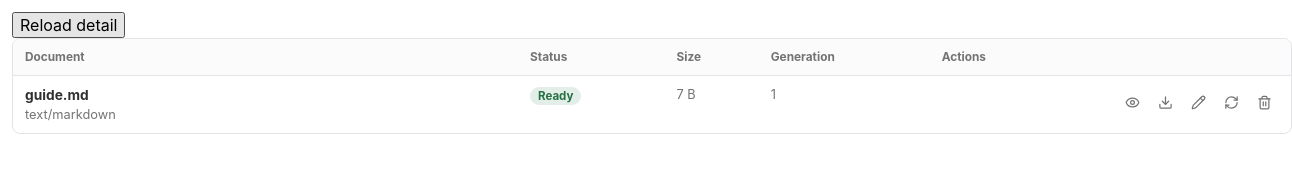
Test case: KnowledgeDocumentTable › shows cleanup_pending after delete returns 202 without removing the row
Click the button named "delete guide.md": [1264, 102] box left=1249, top=87, right=1279, bottom=117
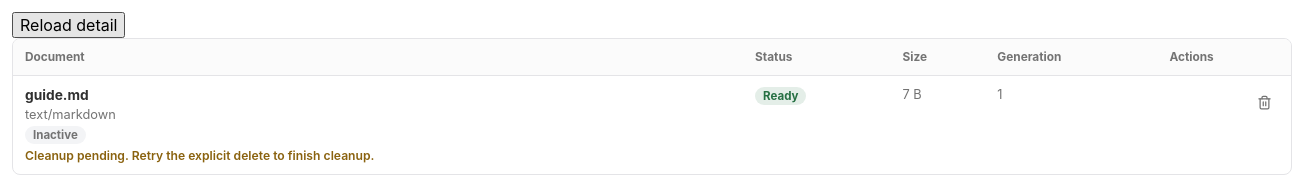
Expected: the text "guide.md" is shown, left=25, top=87, right=89, bottom=103
Now the text "Cleanup pending. Retry the explicit delete to finish cleanup." is shown, box left=25, top=148, right=421, bottom=163
